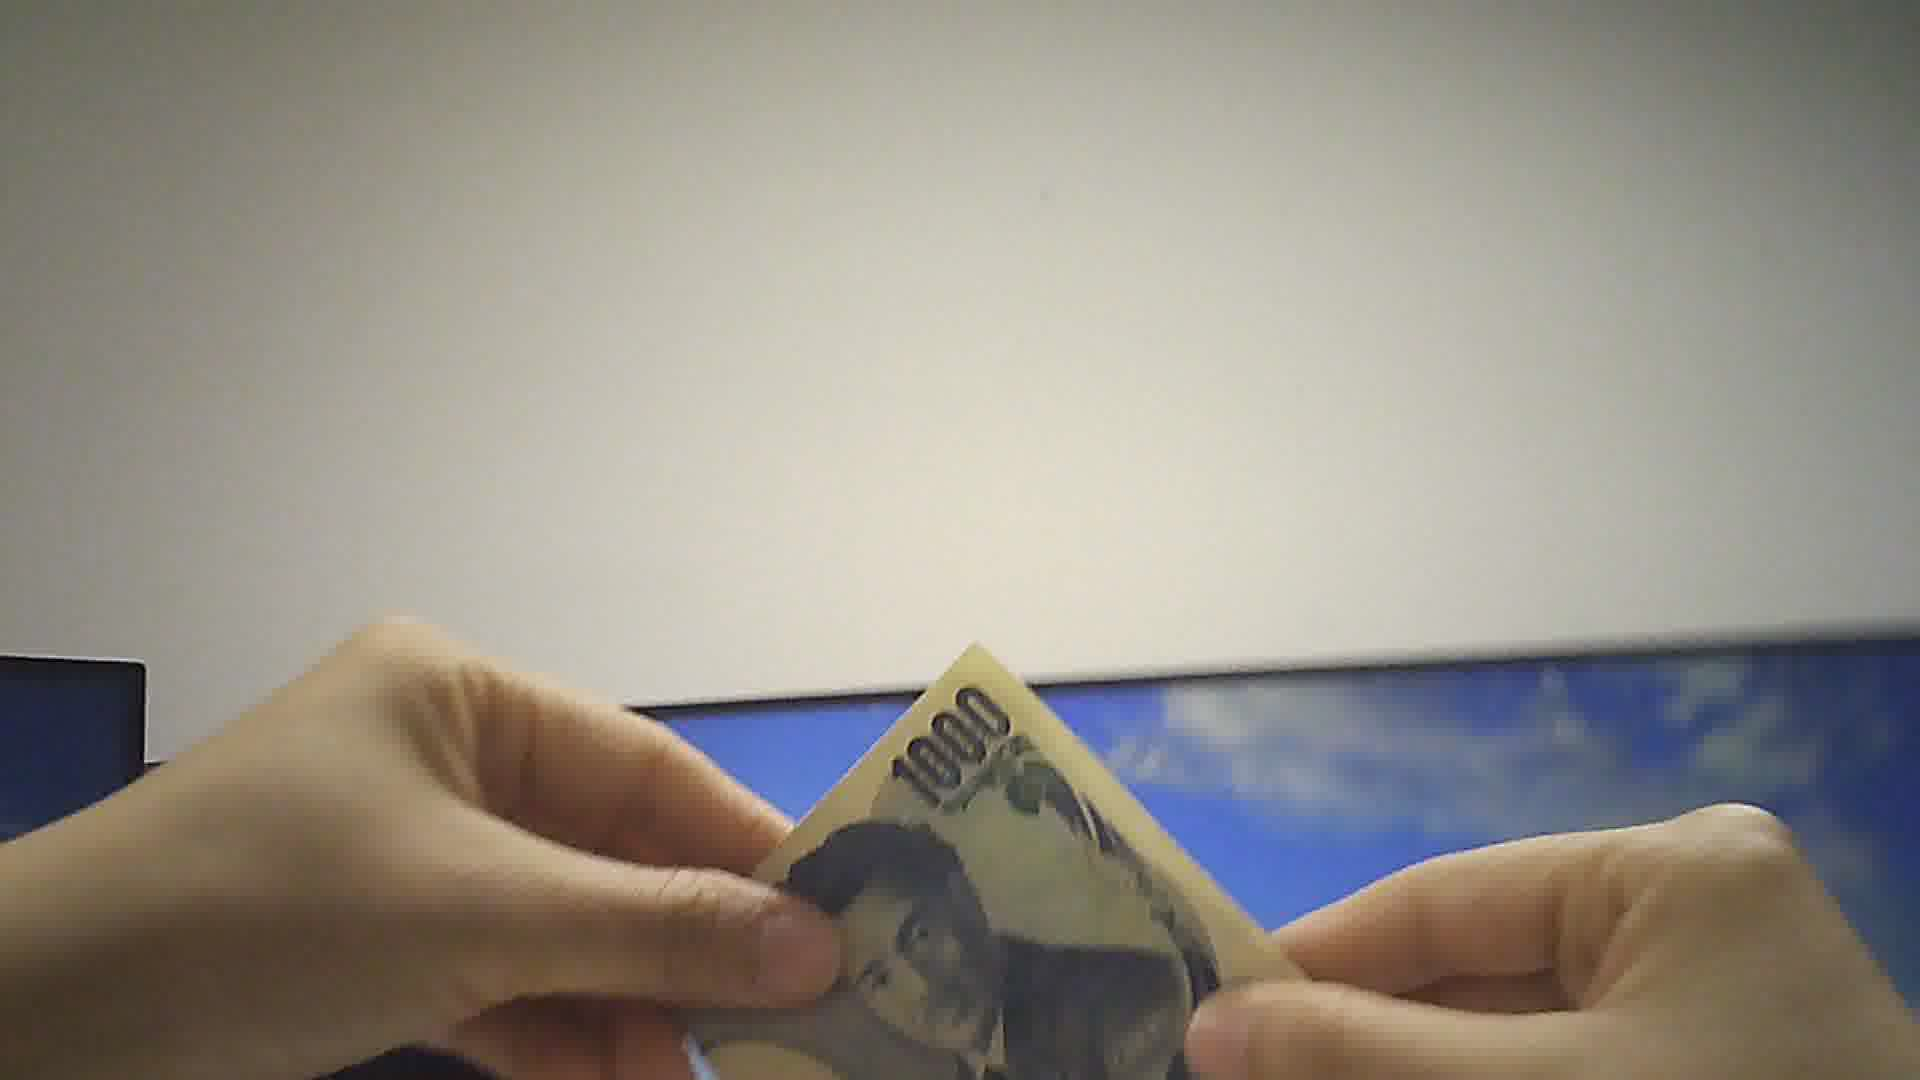1,000 Yen: (670, 647, 1288, 1079)
